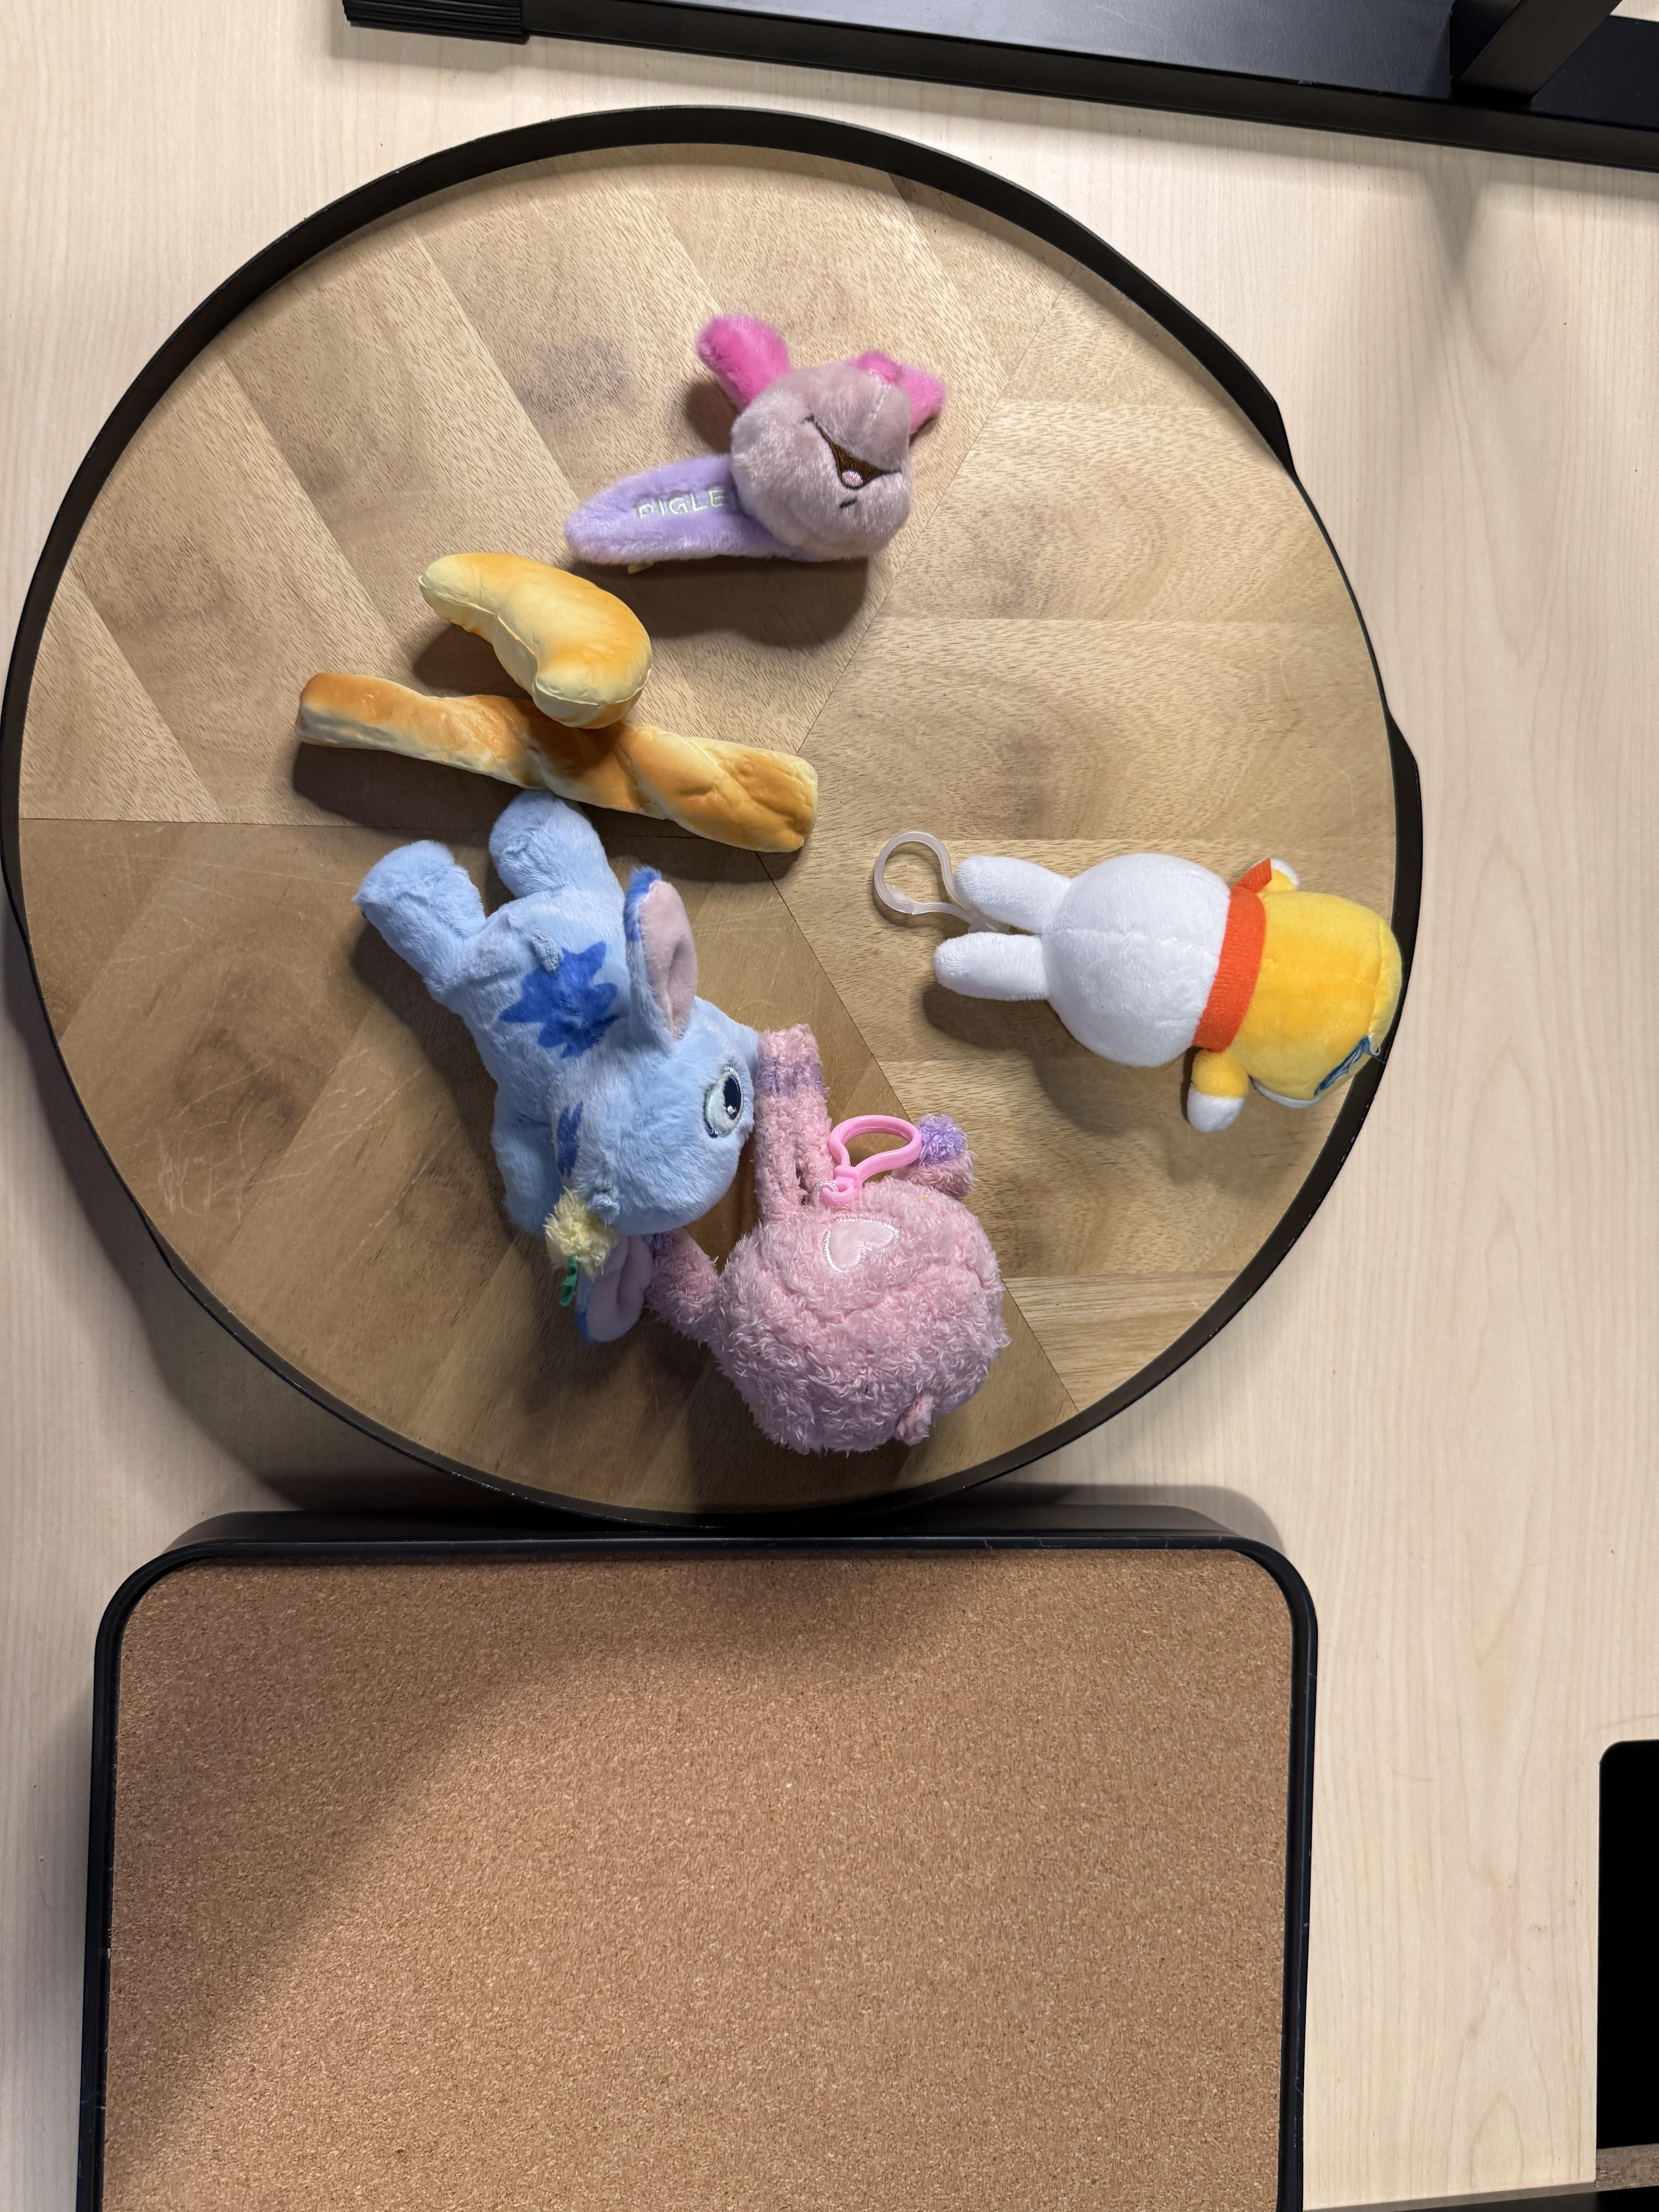bread: (301, 674, 826, 864), (418, 550, 647, 730)
doll: (349, 805, 772, 1322), (640, 1042, 1019, 1440), (890, 820, 1401, 1101), (577, 310, 957, 566)
